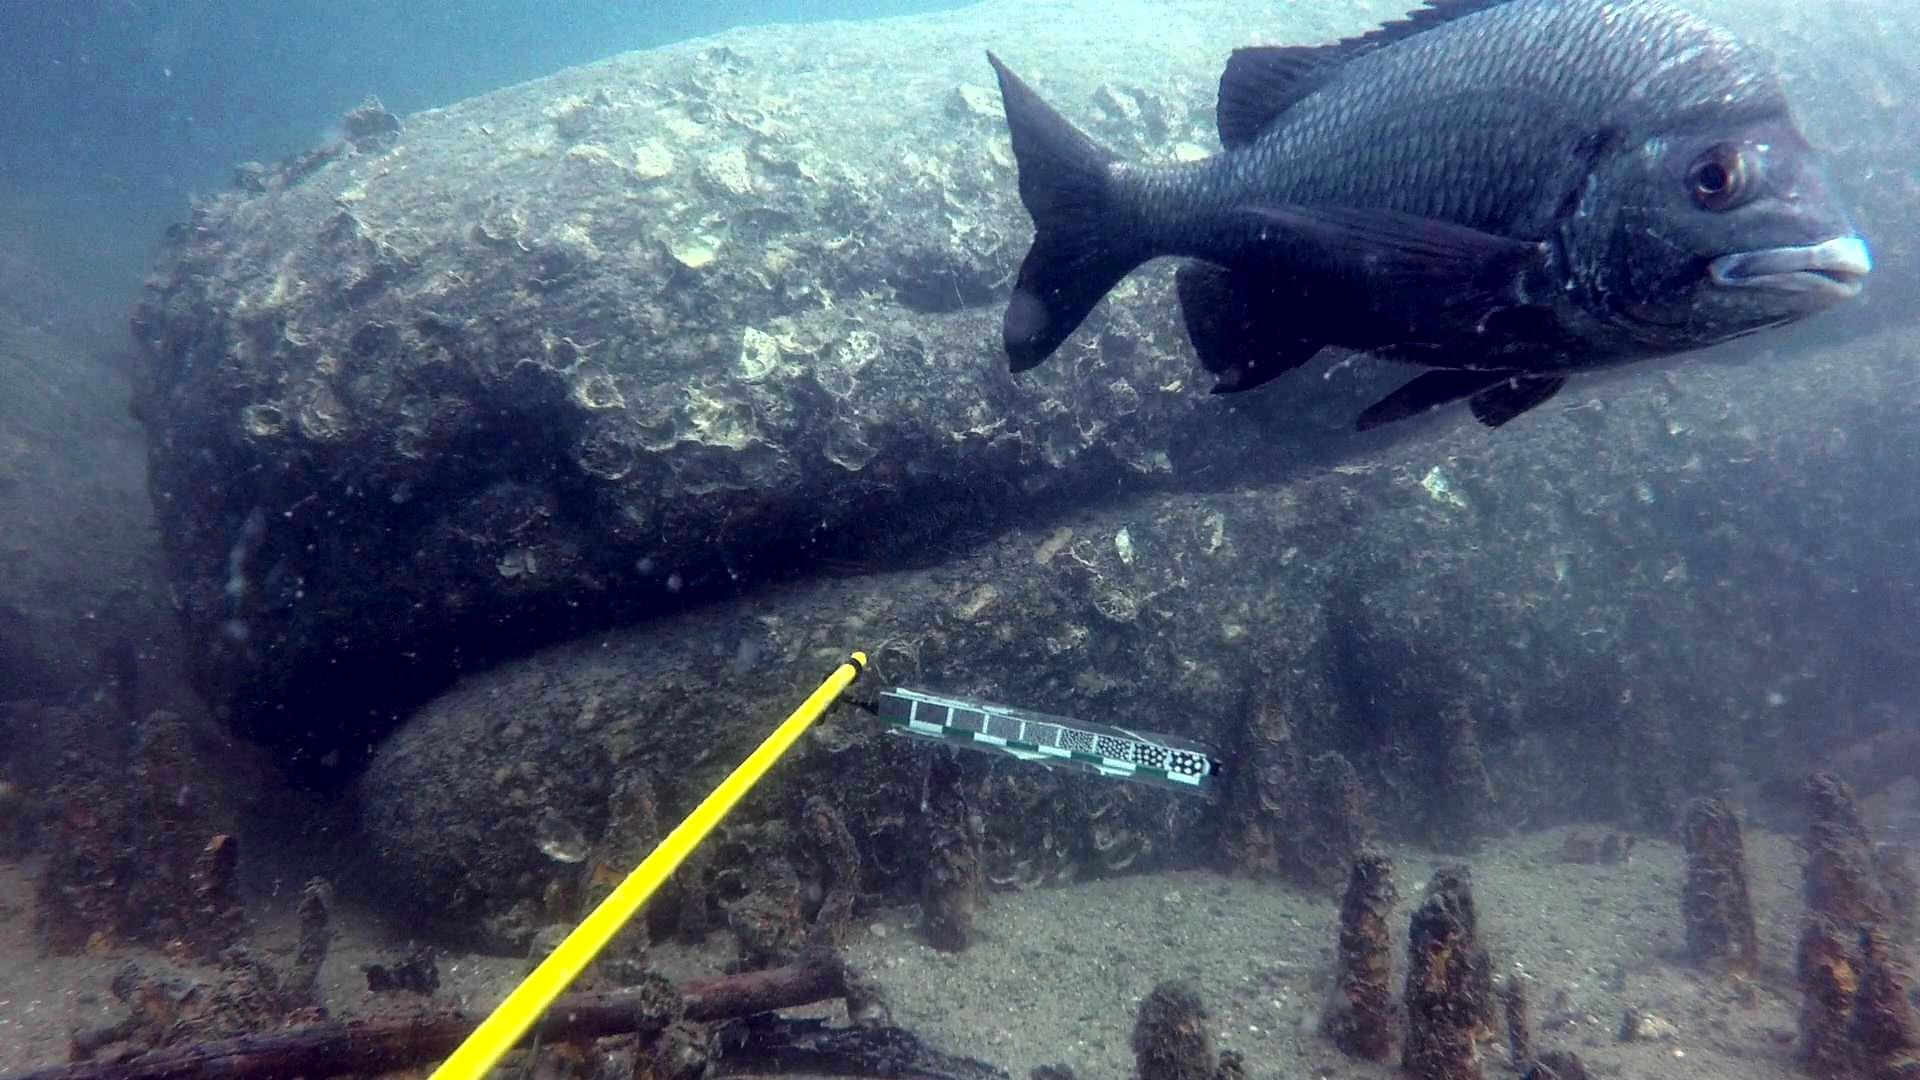acanthopagrus palmaris: (963, 3, 1895, 438)
